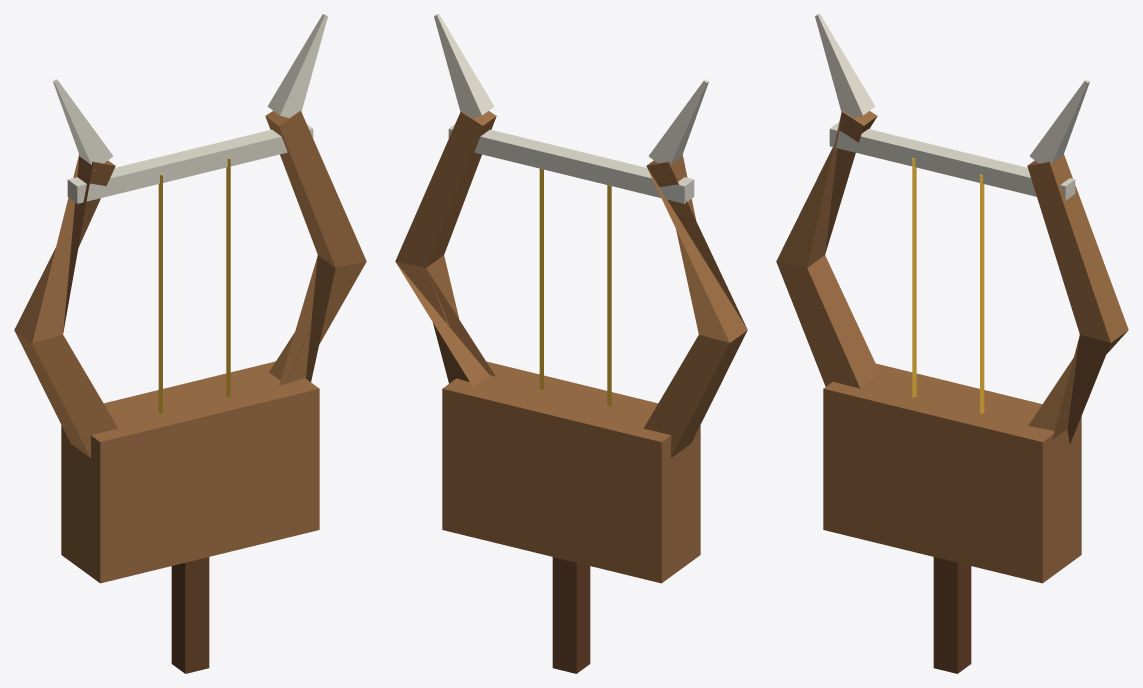
File: SM_Prop_DriftwoodLyre_LQ.glb
3 renders of one model, left to right at view 1: azimuth 30°, elevation 25°; view 2: azimuth 150°, elevation 25°; view 3: azimuth 330°, elevation 25°, orthographic.
Visible parts, largest first — view 1: SM_Prop_DriftwoodLyre_LQ; view 2: SM_Prop_DriftwoodLyre_LQ; view 3: SM_Prop_DriftwoodLyre_LQ.
Part boxes in pixels (x1,y1,x2,y2): SM_Prop_DriftwoodLyre_LQ: (14,14,366,673); SM_Prop_DriftwoodLyre_LQ: (395,14,747,673); SM_Prop_DriftwoodLyre_LQ: (776,14,1128,673).
Size of the model in its own units: 0.3968 by 0.7009 by 0.08.
Materials: 1 (1 with a texture image).
